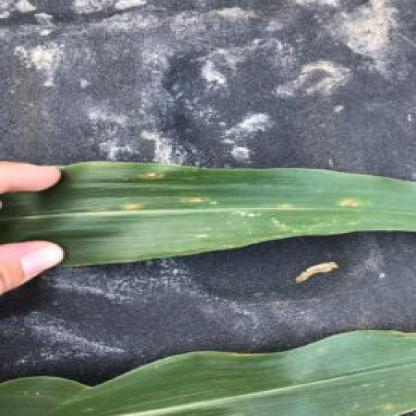Corn Gray leaf spot: (66, 151, 414, 273)
